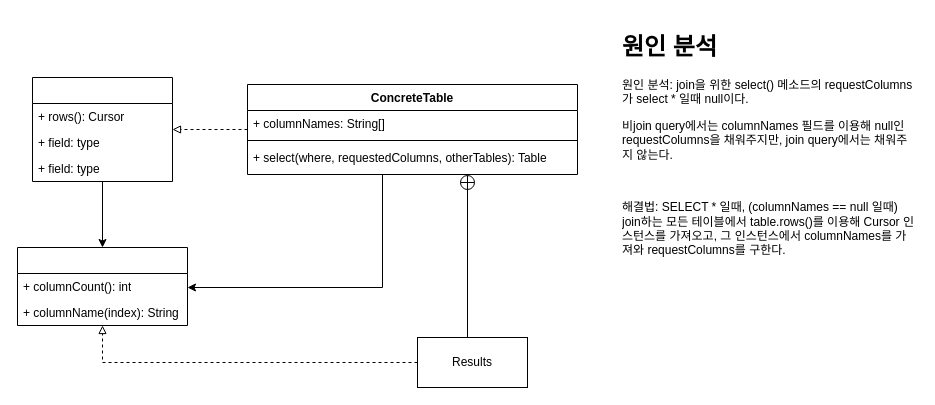
Some shapes in this 935 by 405 pixel diagram are drawn without their labels. The box of each missing label's shape, as (x1, y1, x2, y2) in pixels:
<interface> Cursor: (16, 246, 188, 326)
<interface> Table: (32, 76, 172, 182)
